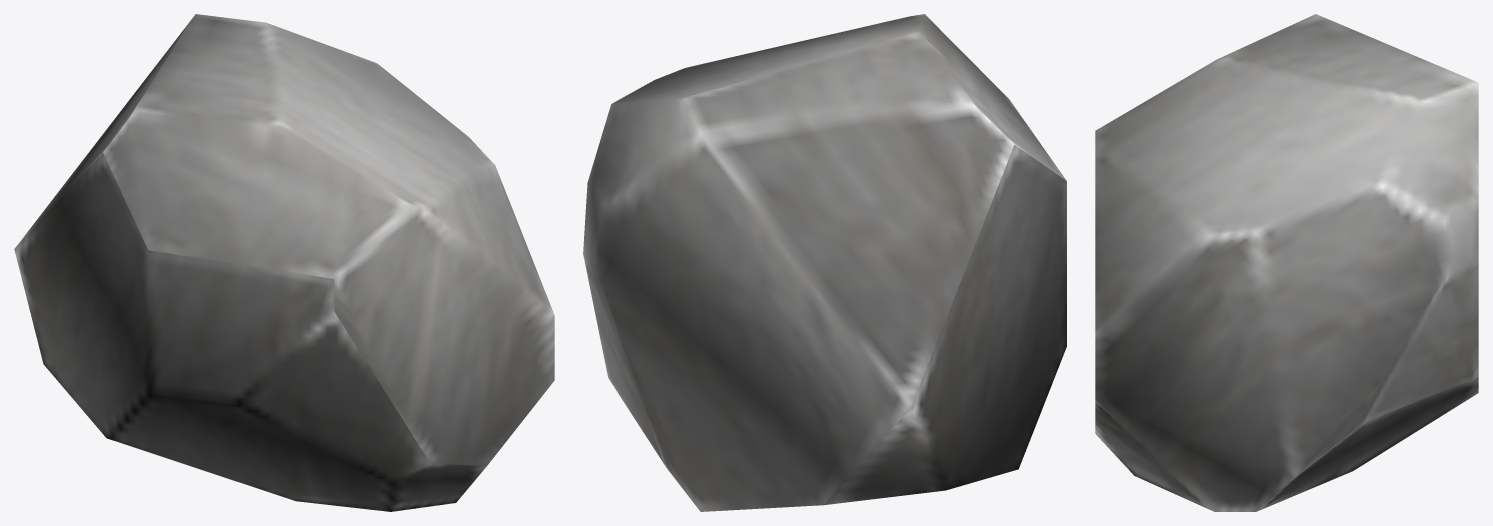
File: ShiZi.FBX
3 views of the same model, side by side, from view 1: azimuth 30°, elevation 25°; view 2: azimuth 150°, elevation 25°; view 3: azimuth 270°, elevation 25° (orthographic). The views are drawn at different scales.
Visible parts, largest first — view 1: ShiZi; view 2: ShiZi; view 3: ShiZi.
Part boxes in pixels (box(x1,y1,x2,y2)): ShiZi: box(14, 14, 554, 511); ShiZi: box(583, 14, 1066, 511); ShiZi: box(1095, 14, 1478, 511).
Size of the model in its own units: 0.0209 by 0.0222 by 0.0217.
